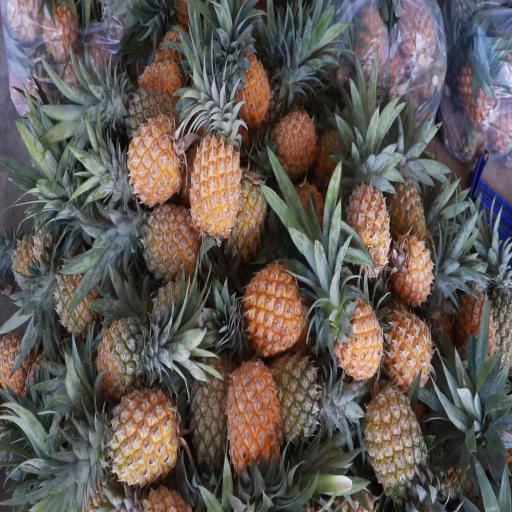------------------------------: (360, 378, 429, 498), (184, 333, 236, 475), (265, 344, 334, 440), (92, 308, 158, 394), (52, 264, 97, 346)
Pineapple - v8 v1: (101, 378, 182, 488), (224, 344, 283, 479), (240, 253, 306, 356), (190, 111, 243, 236), (123, 108, 186, 209), (341, 152, 391, 274), (133, 200, 204, 280), (335, 292, 387, 384), (263, 100, 317, 182), (382, 302, 435, 385), (389, 225, 440, 300), (230, 41, 273, 125)
